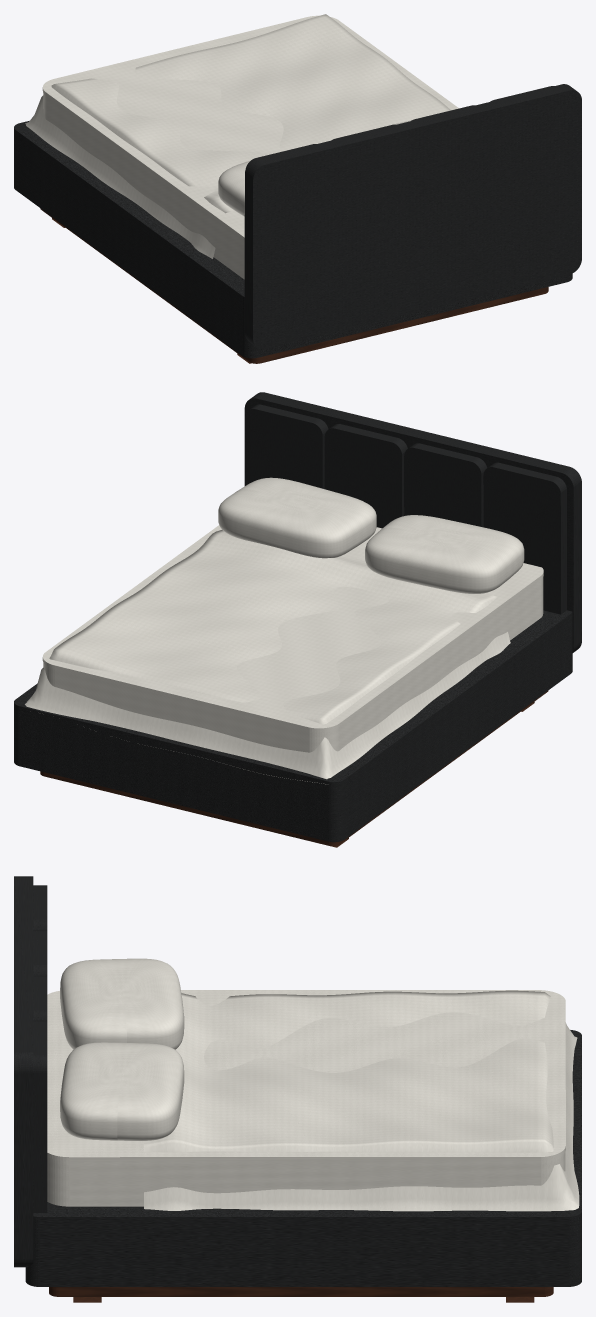
Rendered from Apartment_Queen_Bed.glb.
The picture shows the model from 3 angles, top to bottom: view 1: azimuth 30°, elevation 25°; view 2: azimuth 150°, elevation 25°; view 3: azimuth 270°, elevation 25°; orthographic projection. The views are drawn at different scales.
Parts seen in each view (by area): view 1: Headboard, Duvet, BedFrame, FittedSheet, Mattress, BedBase_Wood, Pillow_Left; view 2: Duvet, BedFrame, Headboard, FittedSheet, Mattress, Pillow_Left, Pillow_Right, BedBase_Wood; view 3: Duvet, BedFrame, FittedSheet, Mattress, Headboard, Pillow_Right, Pillow_Left, BedBase_Wood.
Boxes of the visible parts, x1=… form: Headboard: x1=244, y1=84, x2=581, y2=348; Duvet: x1=25, y1=14, x2=450, y2=258; BedFrame: x1=14, y1=121, x2=572, y2=358; FittedSheet: x1=42, y1=15, x2=458, y2=240; Mattress: x1=43, y1=93, x2=244, y2=279; BedBase_Wood: x1=40, y1=208, x2=548, y2=363; Pillow_Left: x1=218, y1=161, x2=249, y2=216; Duvet: x1=25, y1=530, x2=510, y2=784; BedFrame: x1=14, y1=610, x2=572, y2=842; Headboard: x1=244, y1=392, x2=581, y2=652; FittedSheet: x1=42, y1=525, x2=543, y2=731; Mattress: x1=43, y1=577, x2=543, y2=752; Pillow_Left: x1=365, y1=515, x2=524, y2=593; Pillow_Right: x1=218, y1=477, x2=376, y2=558; BedBase_Wood: x1=40, y1=690, x2=548, y2=847; Duvet: x1=144, y1=990, x2=579, y2=1211; BedFrame: x1=25, y1=1030, x2=581, y2=1286; FittedSheet: x1=47, y1=990, x2=565, y2=1161; Mattress: x1=47, y1=1152, x2=565, y2=1206; Headboard: x1=14, y1=876, x2=47, y2=1267; Pillow_Right: x1=60, y1=1042, x2=184, y2=1140; Pillow_Left: x1=60, y1=958, x2=184, y2=1049; BedBase_Wood: x1=49, y1=1287, x2=553, y2=1302.
Size of the model in its own units: 1.72 by 1.1 by 2.21.
3 materials, 3 textured.
